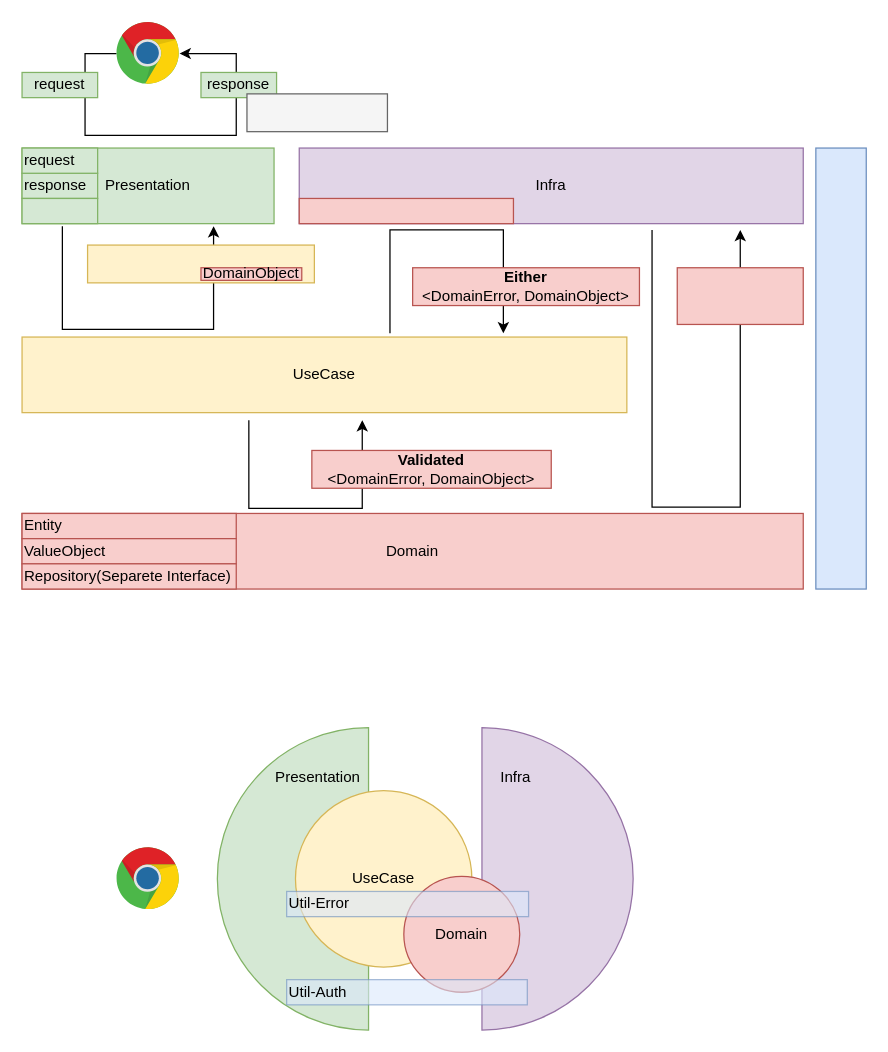
Image size: 888x1052. Some labels were removed from this diagram. The shapes that lost their labels are listed below. From the top down, each one's box as (x1, y1, x2, y2) in pixels, then its label:
(246, 93, 387, 132): X ：DomainObject O ：DtoForView
(21, 197, 98, 224): shared
(298, 197, 513, 224): Repository(Implemented)
(86, 244, 314, 283): Either <UseCaseError, DomainObject>
(676, 266, 803, 324): DomainObject ( NonValidated )
(815, 147, 866, 589): Util
